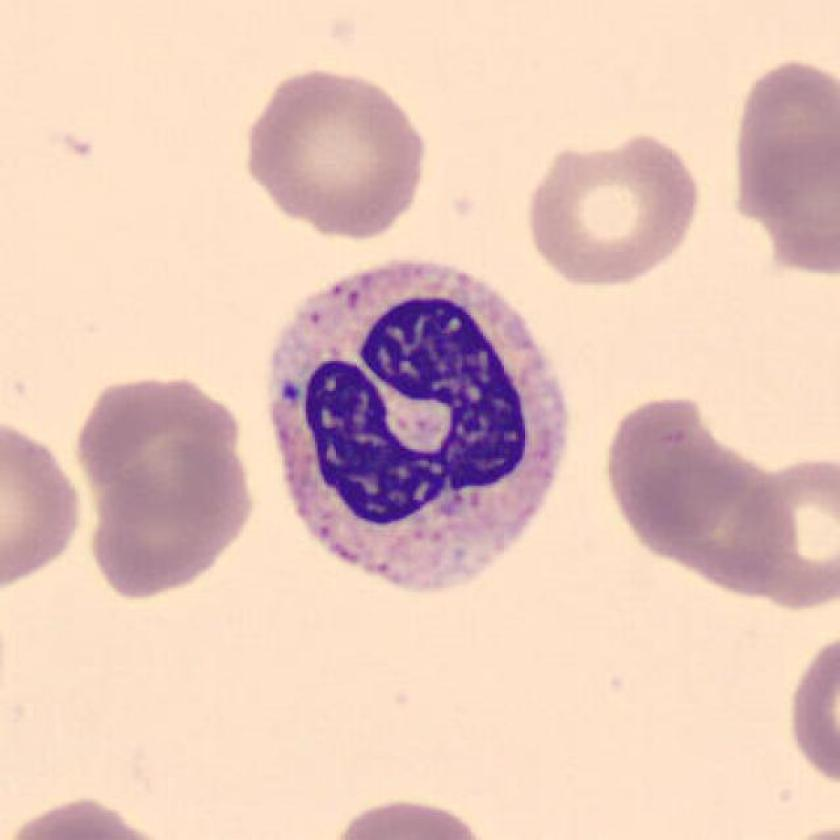neutrophil: (269, 260, 569, 594)
